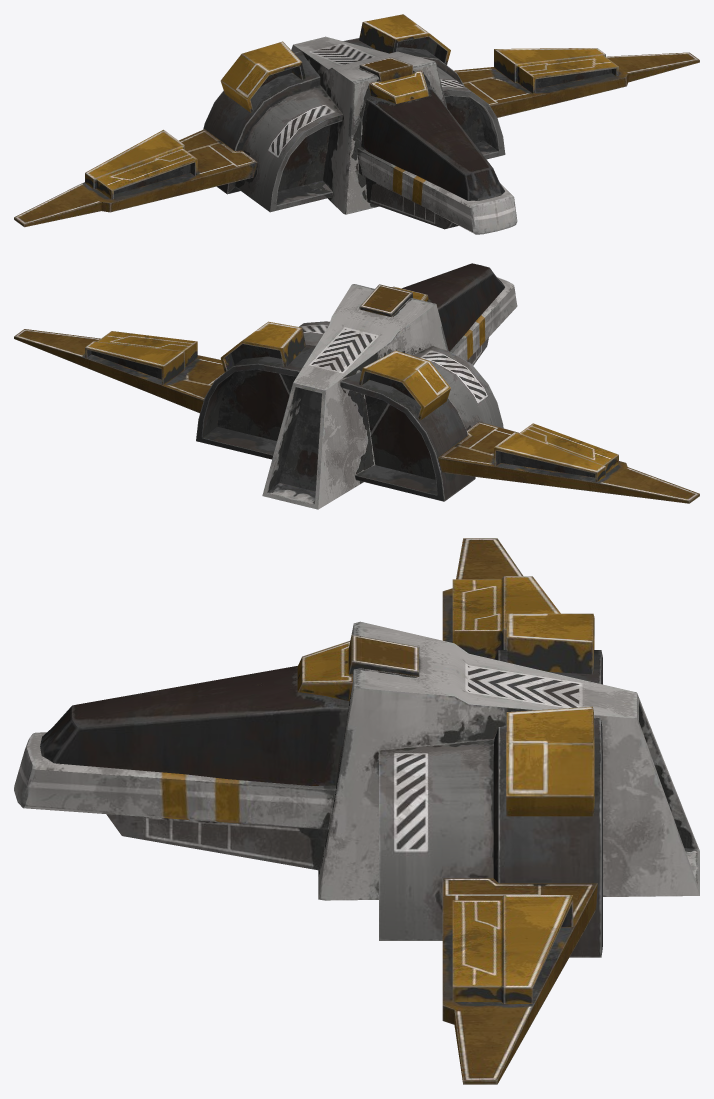
Rendered from Bob.gltf.
The picture shows the model from 3 angles, top to bottom: view 1: azimuth 30°, elevation 25°; view 2: azimuth 150°, elevation 25°; view 3: azimuth 270°, elevation 25°; orthographic projection. The views are drawn at different scales.
Parts seen in each view (by area): view 1: Bob; view 2: Bob; view 3: Bob.
Part boxes in pixels (<box>): Bob: <box>14,14,699,234</box>; Bob: <box>14,263,699,509</box>; Bob: <box>14,538,699,1084</box>.
Bounding box in the file's own units: 10.5 × 2.04 × 5.61.
1 material, 1 textured.
